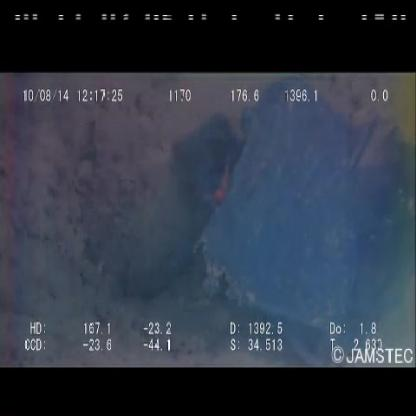Rác: (149, 84, 416, 330)
